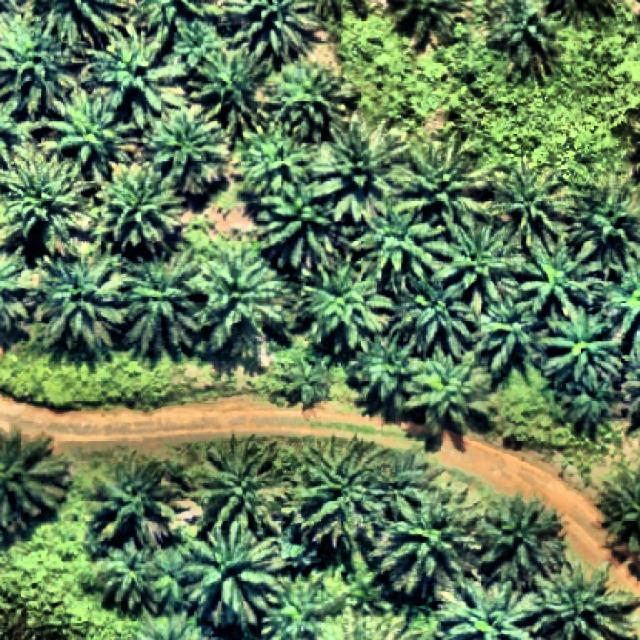Kelapa_Sawit: (371, 480, 484, 598), (183, 428, 292, 538), (176, 519, 287, 627), (85, 22, 187, 128), (34, 236, 128, 350), (300, 432, 388, 550), (316, 113, 409, 224), (292, 255, 396, 351), (194, 246, 288, 352), (477, 484, 571, 584), (353, 193, 456, 284), (438, 210, 524, 318), (404, 130, 488, 239), (89, 160, 186, 254), (88, 452, 184, 546), (189, 41, 282, 137), (118, 248, 202, 352), (404, 344, 492, 436), (144, 102, 230, 196), (46, 80, 128, 176), (488, 153, 567, 250), (516, 230, 602, 319), (389, 278, 480, 360), (259, 178, 339, 271), (273, 57, 359, 143), (540, 300, 623, 386), (233, 121, 319, 202), (356, 332, 424, 414), (484, 290, 544, 378), (370, 442, 432, 526), (100, 535, 162, 617), (495, 6, 563, 72), (142, 545, 207, 610), (174, 16, 223, 70), (283, 354, 331, 408), (570, 373, 612, 430)
